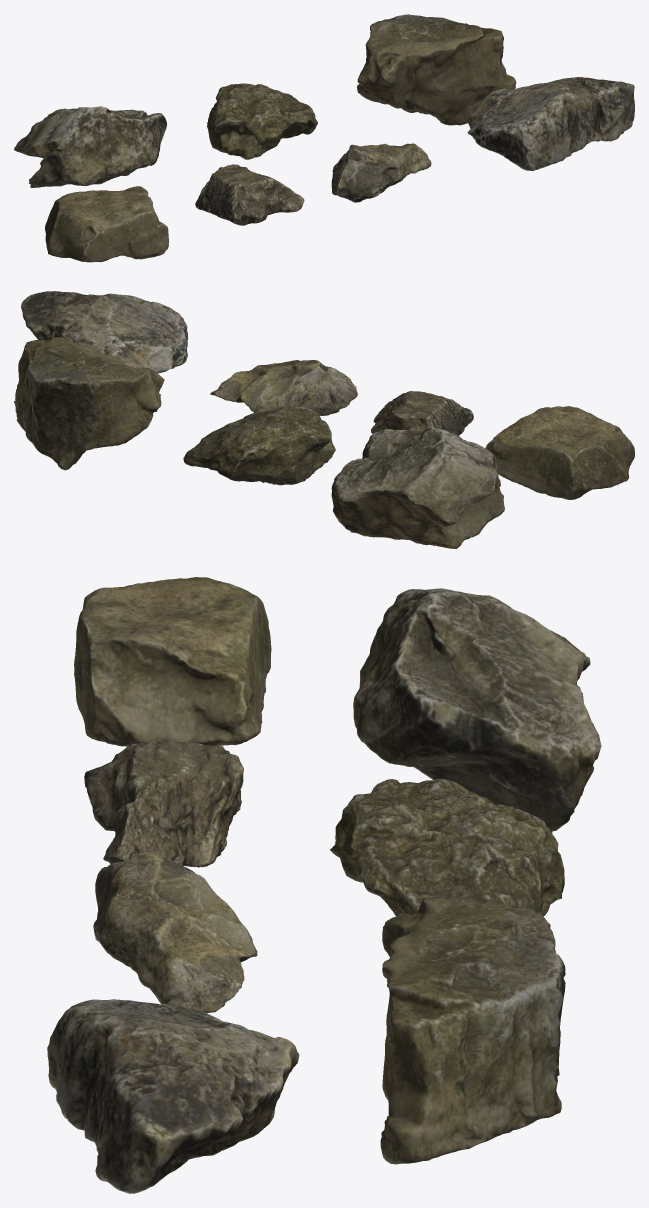
File: rock_moss_set_02_1k.gltf
The picture shows the model from 3 angles, top to bottom: view 1: azimuth 30°, elevation 25°; view 2: azimuth 150°, elevation 25°; view 3: azimuth 270°, elevation 25°; orthographic projection. The views are drawn at different scales.
Visible parts, largest first — view 1: rock_moss_set_02_rock13, rock_moss_set_02_rock10, rock_moss_set_02_rock11, rock_moss_set_02_rock07, rock_moss_set_02_rock12, rock_moss_set_02_rock08, rock_moss_set_02_rock09; view 2: rock_moss_set_02_rock11, rock_moss_set_02_rock13, rock_moss_set_02_rock07, rock_moss_set_02_rock10, rock_moss_set_02_rock12, rock_moss_set_02_rock09, rock_moss_set_02_rock08; view 3: rock_moss_set_02_rock13, rock_moss_set_02_rock11, rock_moss_set_02_rock10, rock_moss_set_02_rock07, rock_moss_set_02_rock12, rock_moss_set_02_rock09, rock_moss_set_02_rock08.
Boxes of the visible parts, bbox=[...] form: rock_moss_set_02_rock13: bbox=[357, 14, 516, 125]; rock_moss_set_02_rock10: bbox=[467, 77, 634, 170]; rock_moss_set_02_rock11: bbox=[14, 106, 166, 187]; rock_moss_set_02_rock07: bbox=[45, 186, 168, 262]; rock_moss_set_02_rock12: bbox=[207, 83, 317, 159]; rock_moss_set_02_rock08: bbox=[195, 164, 304, 225]; rock_moss_set_02_rock09: bbox=[331, 143, 431, 202]; rock_moss_set_02_rock11: bbox=[331, 427, 504, 548]; rock_moss_set_02_rock13: bbox=[14, 337, 164, 470]; rock_moss_set_02_rock07: bbox=[485, 406, 634, 499]; rock_moss_set_02_rock10: bbox=[21, 291, 187, 373]; rock_moss_set_02_rock12: bbox=[183, 406, 335, 485]; rock_moss_set_02_rock09: bbox=[210, 360, 357, 415]; rock_moss_set_02_rock08: bbox=[371, 391, 473, 435]; rock_moss_set_02_rock13: bbox=[380, 895, 565, 1164]; rock_moss_set_02_rock11: bbox=[353, 588, 601, 833]; rock_moss_set_02_rock10: bbox=[47, 999, 299, 1193]; rock_moss_set_02_rock07: bbox=[74, 577, 271, 746]; rock_moss_set_02_rock12: bbox=[330, 779, 564, 927]; rock_moss_set_02_rock09: bbox=[93, 851, 257, 1013]; rock_moss_set_02_rock08: bbox=[84, 741, 243, 867].
Bounding box in the file's own units: 8.28 × 1.37 × 3.41.
1 material, 1 textured.
